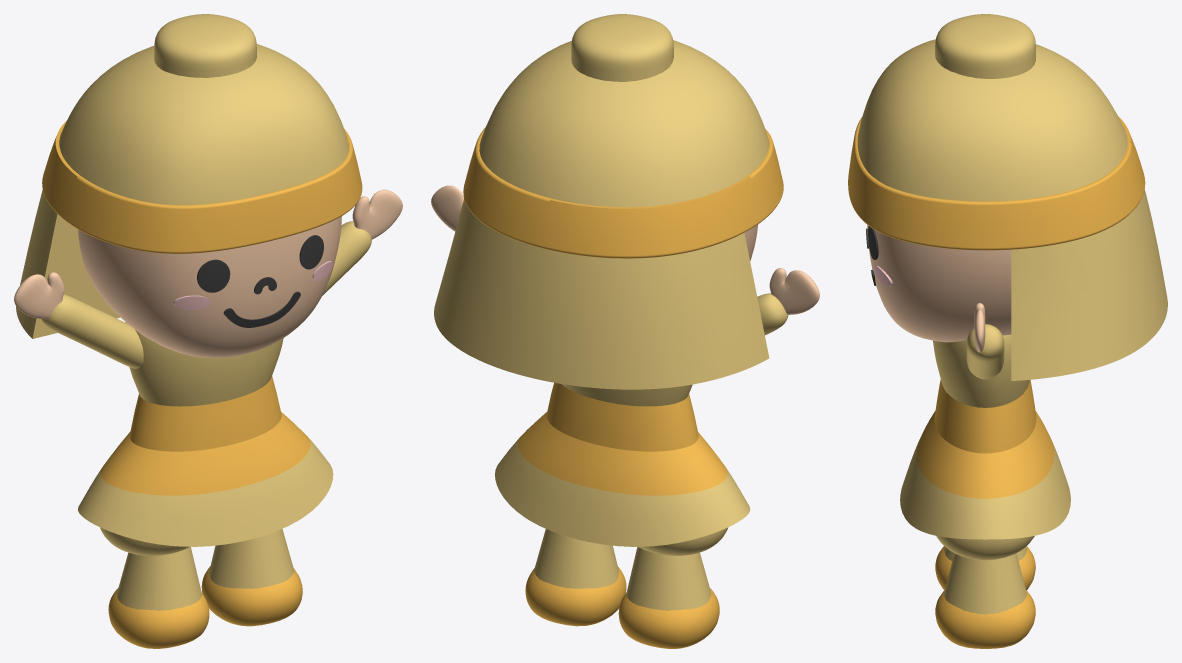
The picture shows the model from 3 angles, left to right: view 1: azimuth 30°, elevation 25°; view 2: azimuth 150°, elevation 25°; view 3: azimuth 270°, elevation 25°; orthographic projection.
Parts seen in each view (by area): view 1: 051_hanitan; view 2: 051_hanitan; view 3: 051_hanitan.
Part boxes in pixels (x1,y1,x2,y2): 051_hanitan: [14, 14, 402, 648]; 051_hanitan: [431, 14, 819, 648]; 051_hanitan: [848, 14, 1167, 648].
Size of the model in its own units: 0.1361 by 0.2006 by 0.0988.
